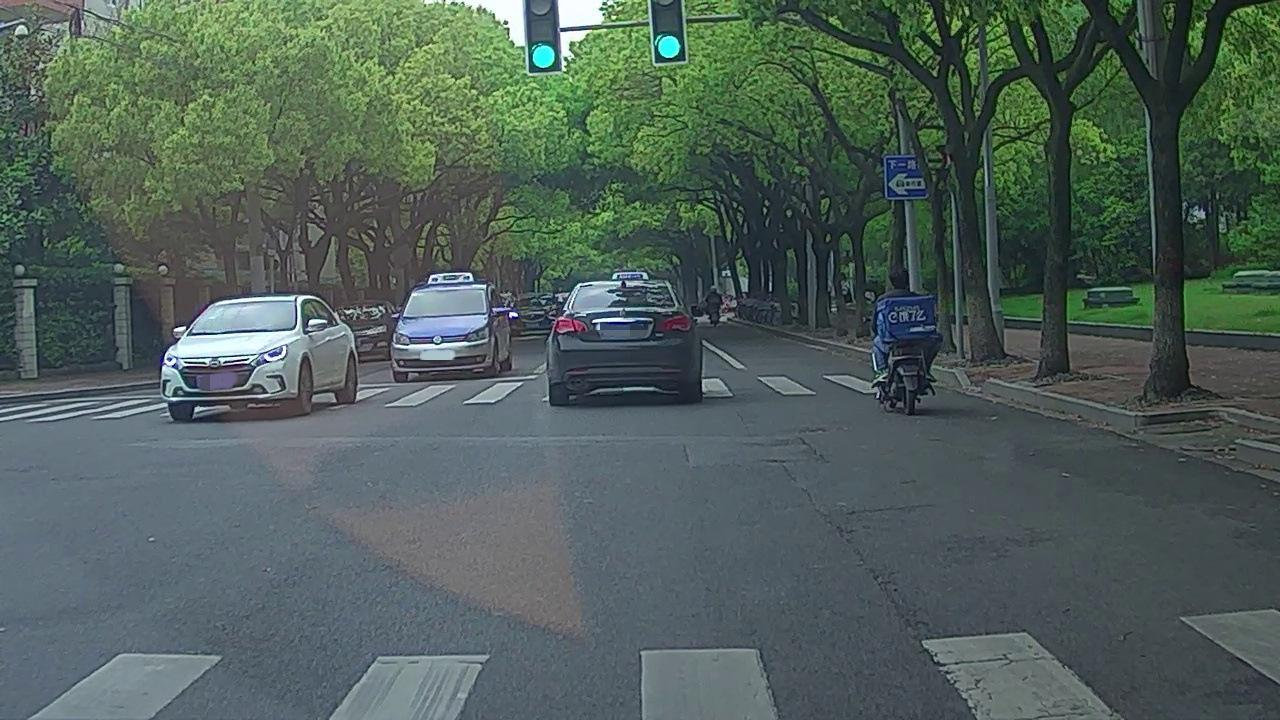traffic_light: (522, 1, 563, 67), (653, 1, 684, 60)
